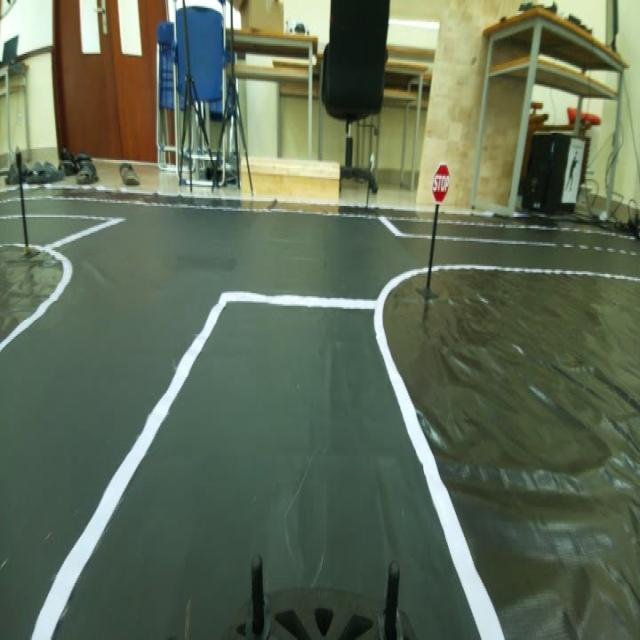stop: (430, 158, 454, 208)
